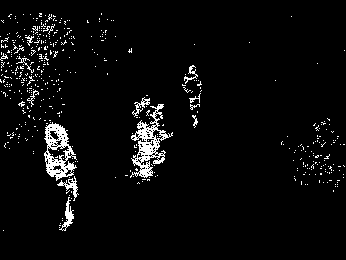person: (43, 122, 81, 233), (181, 62, 205, 130)
